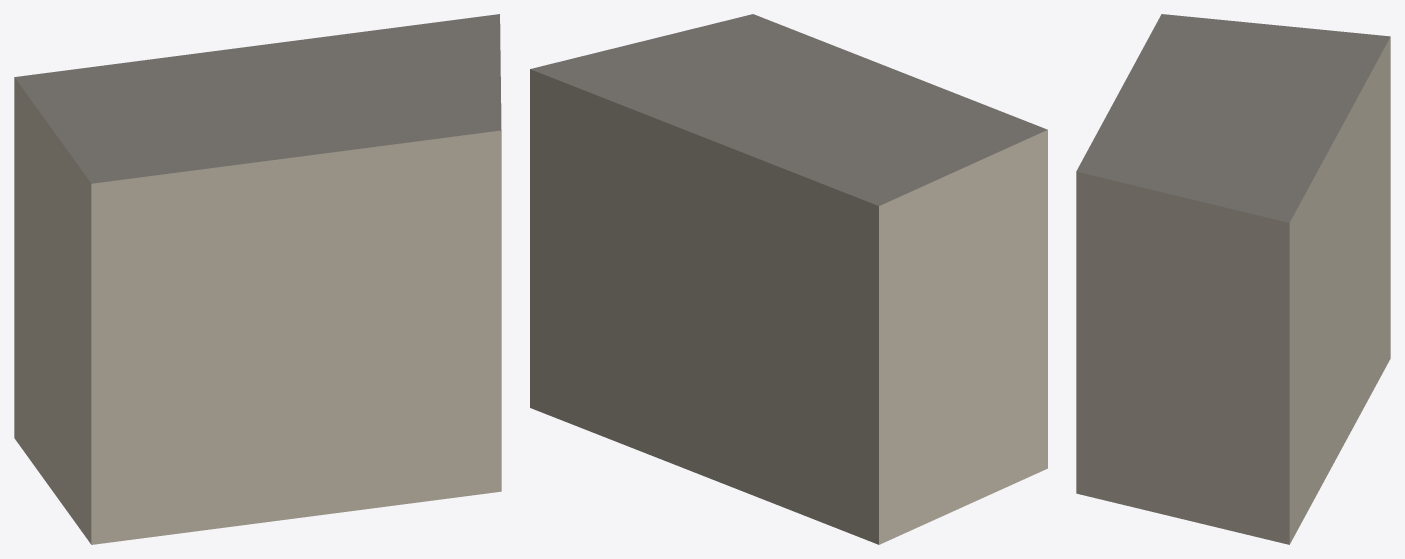
3 renders of one model, left to right at view 1: azimuth 30°, elevation 25°; view 2: azimuth 150°, elevation 25°; view 3: azimuth 270°, elevation 25°, orthographic. The views are drawn at different scales.
Parts seen in each view (by area): view 1: HP-w442027165; view 2: HP-w442027165; view 3: HP-w442027165.
Part boxes in pixels (<box>): HP-w442027165: <box>14,14,501,544</box>; HP-w442027165: <box>530,14,1047,544</box>; HP-w442027165: <box>1076,14,1390,544</box>.
Bounding box in the file's own units: 25.05 × 18 × 15.93.
